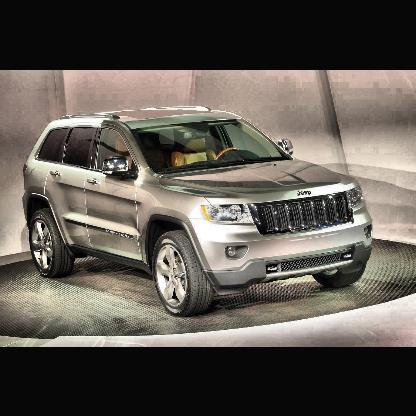Jeep Grand Cherokee SUV 2012: (23, 108, 375, 319)
